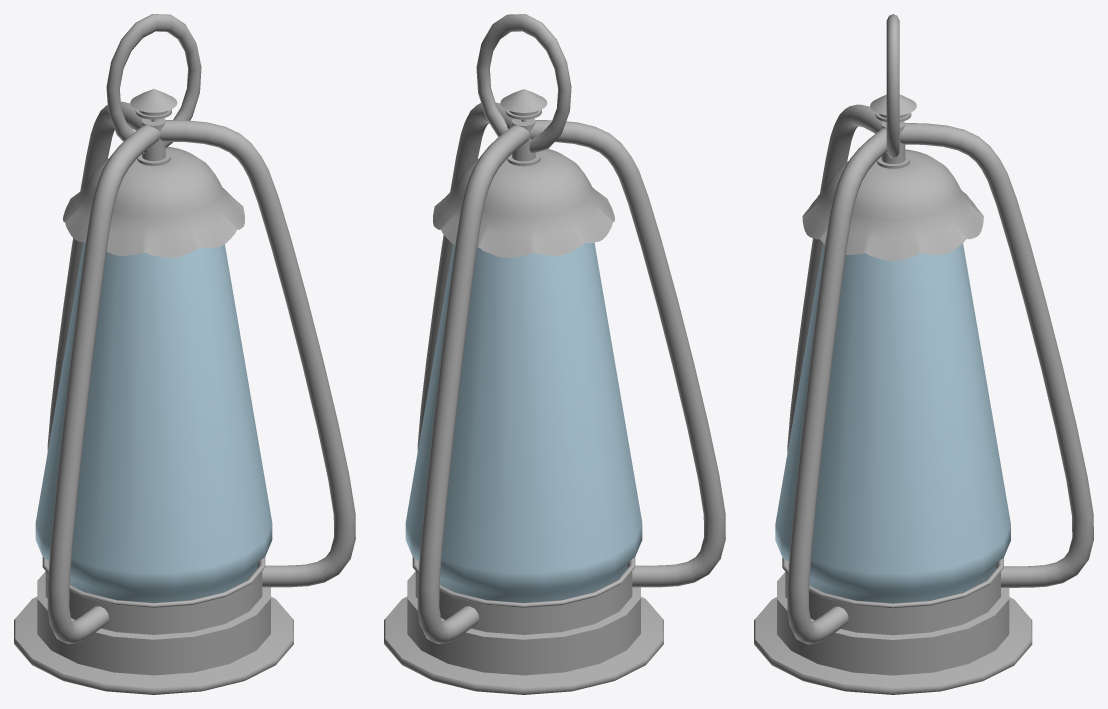
File: lantern.fbx
3 views of the same model, side by side, from view 1: azimuth 30°, elevation 25°; view 2: azimuth 150°, elevation 25°; view 3: azimuth 270°, elevation 25° (orthographic).
Parts seen in each view (by area): view 1: Base; view 2: Base; view 3: Base.
Boxes of the visible parts, left/top/right/bottom form: Base: left=14, top=14, right=355, bottom=694; Base: left=384, top=14, right=725, bottom=694; Base: left=754, top=14, right=1093, bottom=694.
Bounding box in the file's own units: 257 × 500 × 249.
